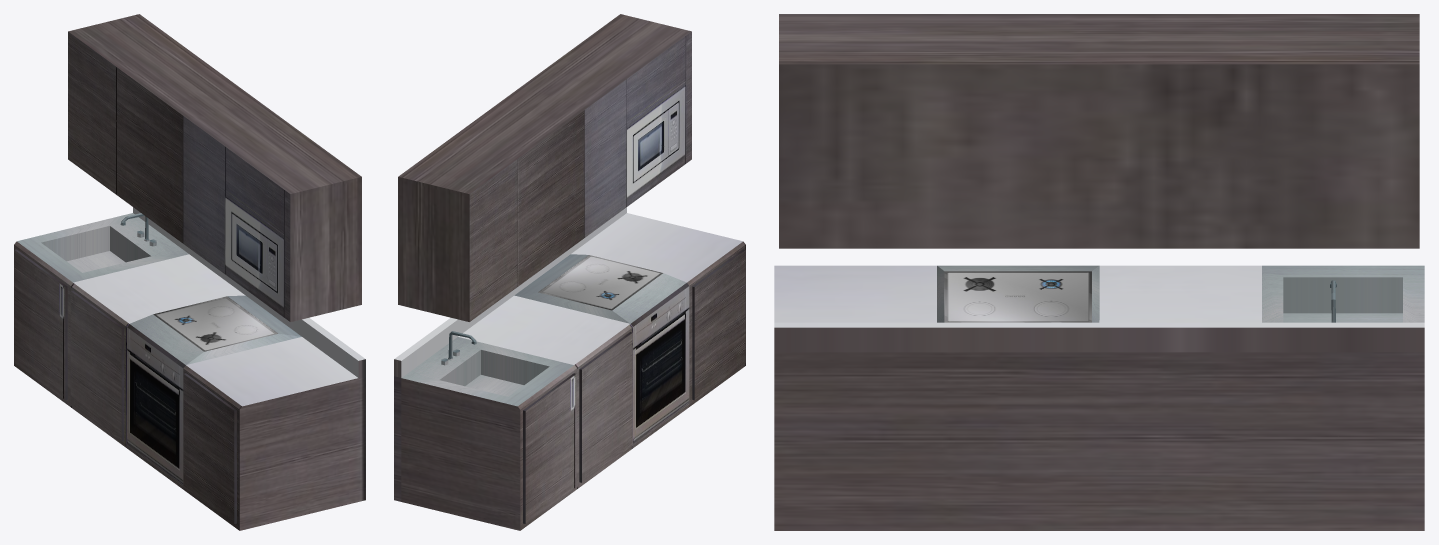
Rendered from KITCHEN_02.fbx.
3 renders of one model, left to right at view 1: azimuth 30°, elevation 25°; view 2: azimuth 150°, elevation 25°; view 3: azimuth 270°, elevation 25°, orthographic. The views are drawn at different scales.
Parts seen in each view (by area): view 1: KITCHEN_02; view 2: KITCHEN_02; view 3: KITCHEN_02.
Boxes of the visible parts, x1,y1,x2,y2 form: KITCHEN_02: (14, 14, 365, 530); KITCHEN_02: (394, 14, 745, 530); KITCHEN_02: (774, 14, 1424, 530).
Size of the model in its own units: 94.73 by 227 by 288.
